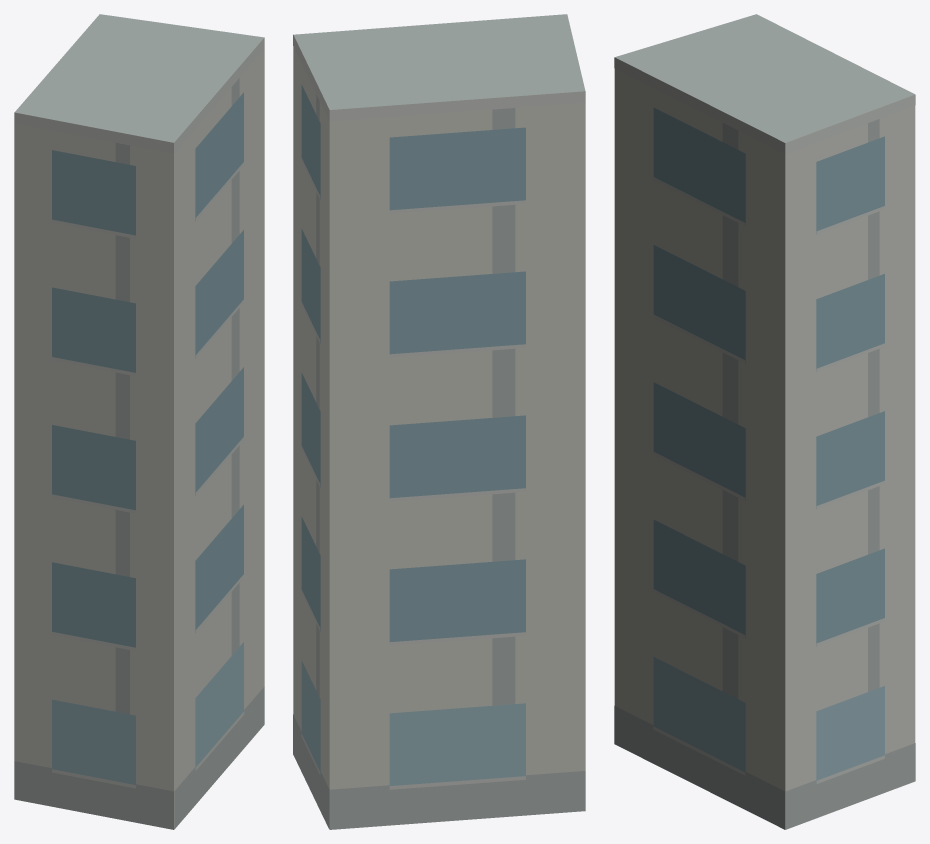
The model's file is survey-upis-32641661.glb.
3 views of the same model, side by side, from view 1: azimuth 30°, elevation 25°; view 2: azimuth 150°, elevation 25°; view 3: azimuth 270°, elevation 25° (orthographic). The views are drawn at different scales.
Parts seen in each view (by area): view 1: survey-upis-32641661.tmp; view 2: survey-upis-32641661.tmp; view 3: survey-upis-32641661.tmp.
Part boxes in pixels (x1,y1,x2,y2): survey-upis-32641661.tmp: (14, 14, 264, 829); survey-upis-32641661.tmp: (293, 14, 585, 829); survey-upis-32641661.tmp: (614, 14, 915, 829).
Bounding box in the file's own units: 6.15 × 15.25 × 6.07.
